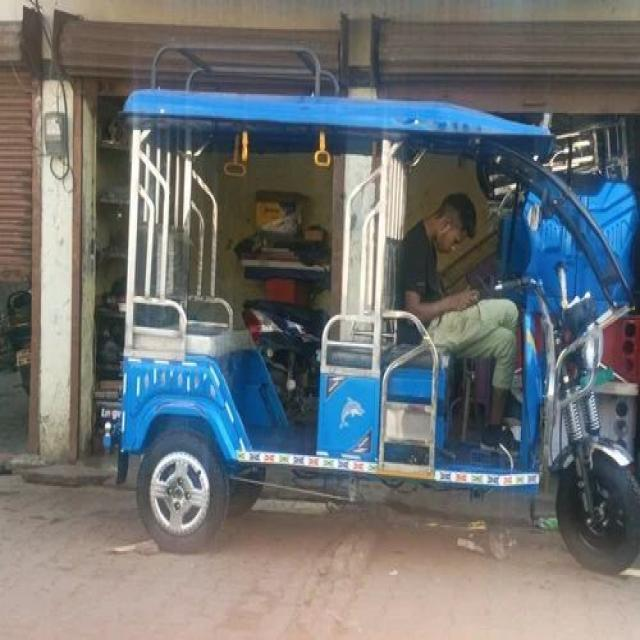rickshaw: (113, 73, 640, 556)
